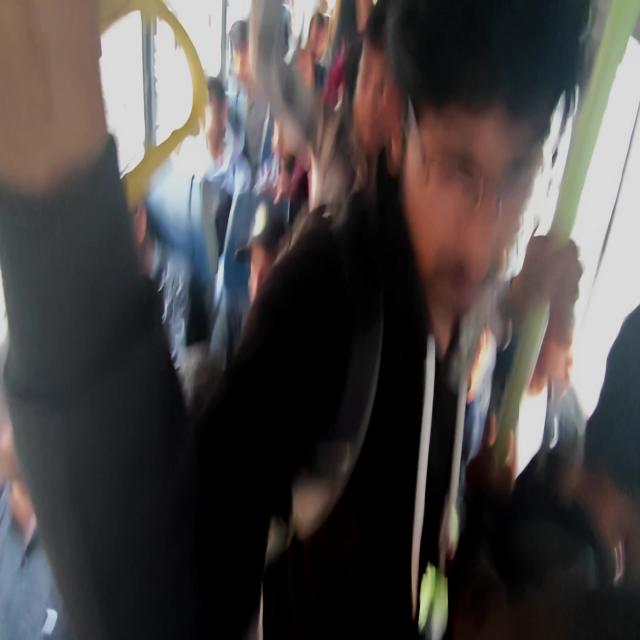person: (519, 288, 640, 604), (405, 90, 544, 330), (0, 351, 51, 580), (350, 8, 408, 186), (196, 80, 244, 216), (244, 203, 288, 308), (132, 194, 162, 288), (228, 19, 255, 103), (306, 11, 330, 69), (354, 0, 375, 36), (280, 150, 296, 178), (270, 117, 284, 149)
